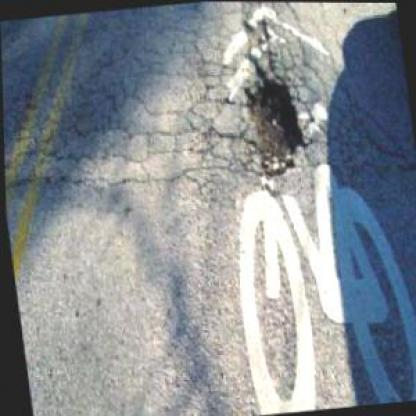pothole: (233, 62, 312, 188)
